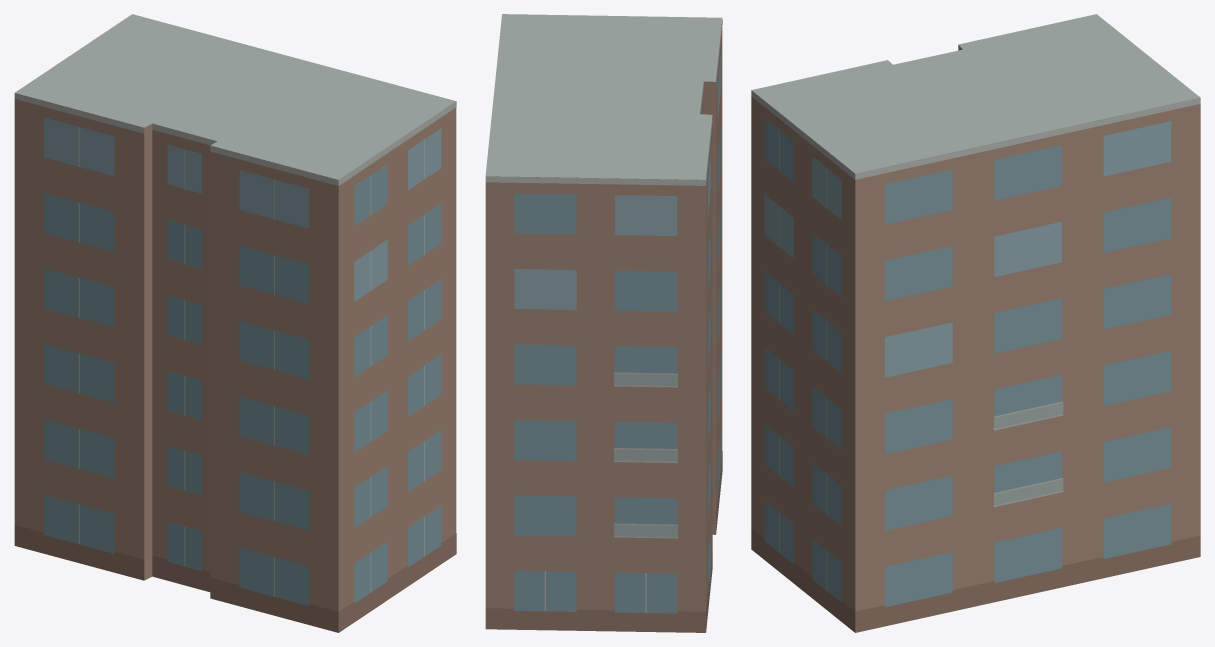
The model's file is survey-upis-32839380.glb.
3 views of the same model, side by side, from view 1: azimuth 30°, elevation 25°; view 2: azimuth 150°, elevation 25°; view 3: azimuth 270°, elevation 25° (orthographic).
Visible parts, largest first — view 1: survey-upis-32839380.tmp; view 2: survey-upis-32839380.tmp; view 3: survey-upis-32839380.tmp.
Boxes of the visible parts, box(x1,y1,x2,y2) form: survey-upis-32839380.tmp: box(14, 14, 456, 632); survey-upis-32839380.tmp: box(485, 14, 722, 632); survey-upis-32839380.tmp: box(751, 14, 1200, 632).
Size of the model in its own units: 13.66 by 18.3 by 16.24.
